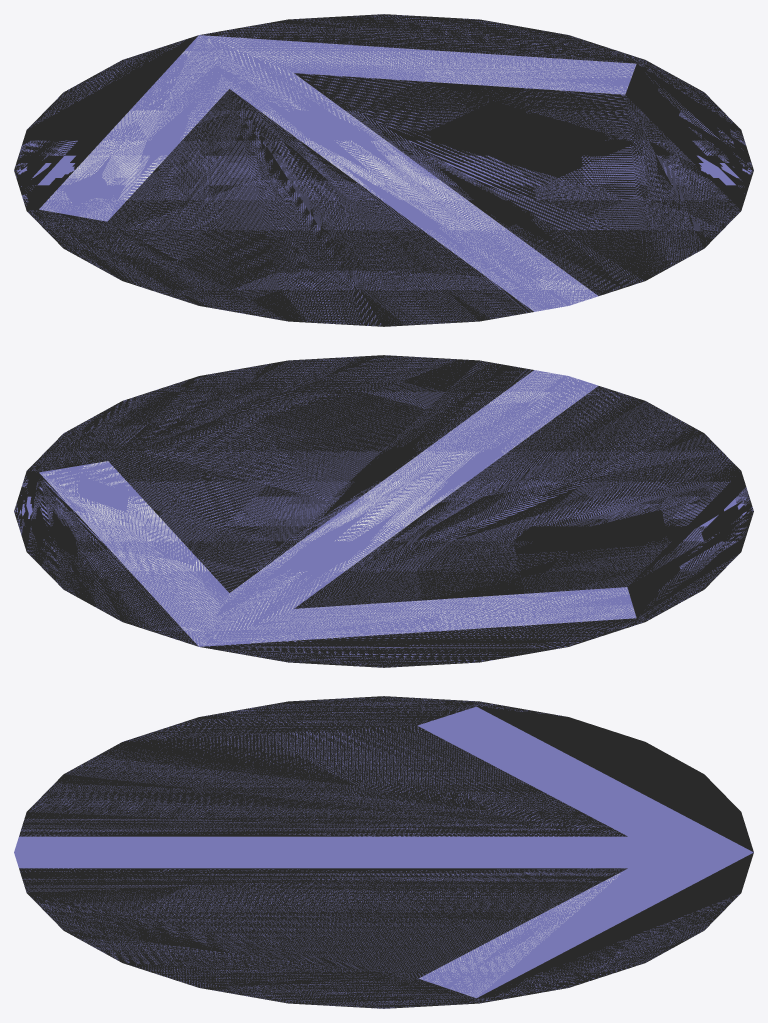
Rendered from North_Arrow_Block.dae.
3 views of the same model, one above another, from view 1: azimuth 30°, elevation 25°; view 2: azimuth 150°, elevation 25°; view 3: azimuth 270°, elevation 25° (orthographic).
Parts seen in each view (by area): view 1: Model; view 2: Model; view 3: Model.
Part boxes in pixels (left/top/right/bottom): Model: left=14, top=14, right=753, bottom=326; Model: left=14, top=355, right=753, bottom=667; Model: left=14, top=696, right=753, bottom=1008.
Size of the model in its own units: 79.5 by 79.5 by 0.
